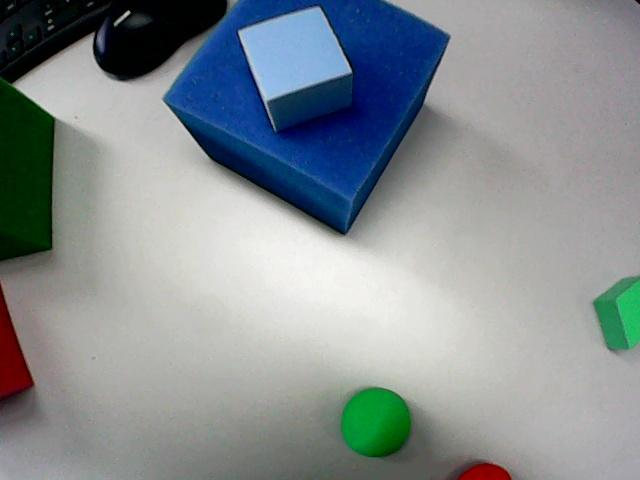blue_block: (165, 0, 448, 231), (238, 6, 352, 130)
red_block: (0, 286, 33, 398), (459, 463, 511, 479)
